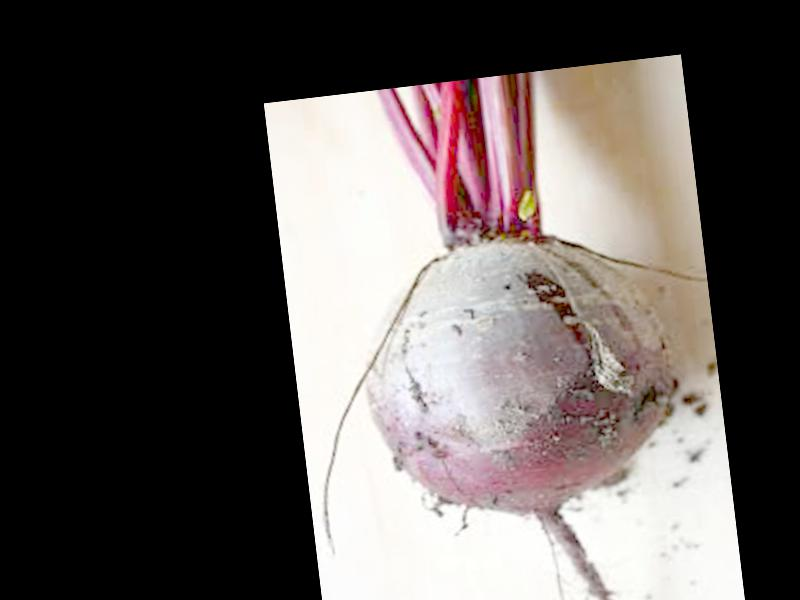Beet: (273, 64, 701, 600)
